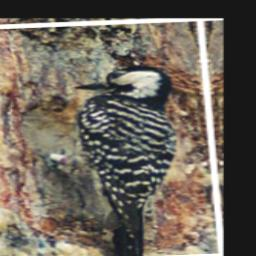Woodpecker: (21, 57, 197, 256)
